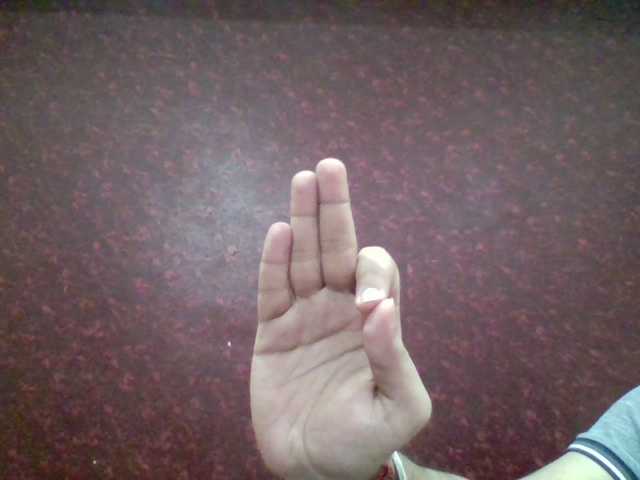f: (234, 143, 442, 469)
